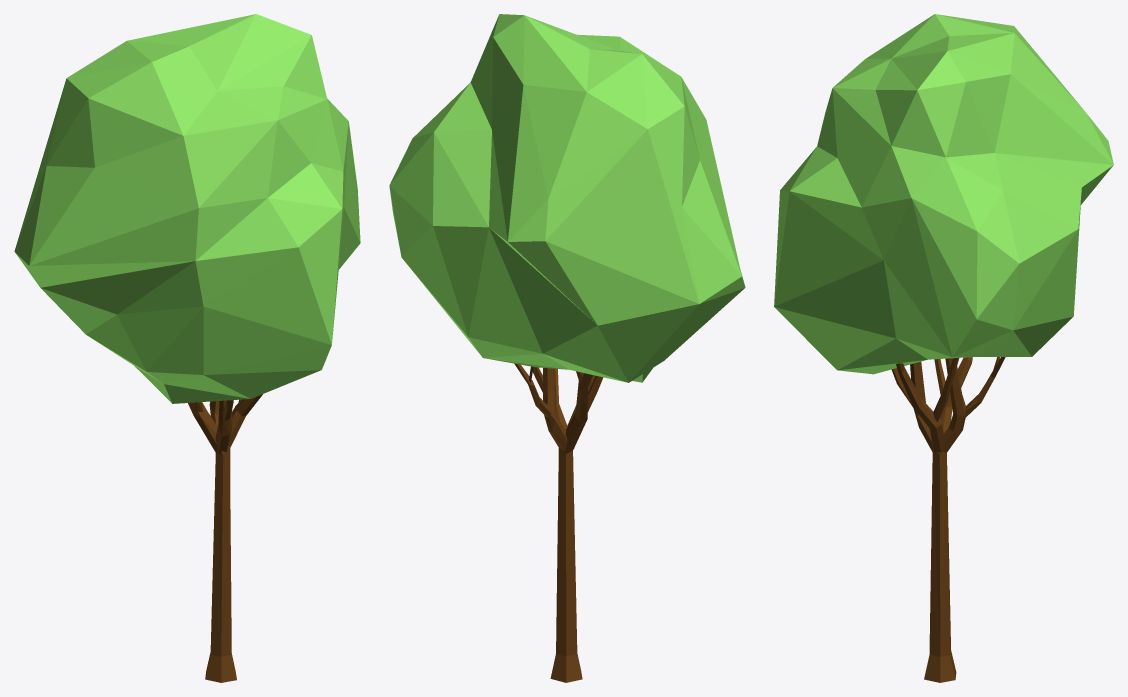
Rendered from Tree03.fbx.
3 views of the same model, side by side, from view 1: azimuth 30°, elevation 25°; view 2: azimuth 150°, elevation 25°; view 3: azimuth 270°, elevation 25° (orthographic).
Visible parts, largest first — view 1: Tree03; view 2: Tree03; view 3: Tree03.
Part boxes in pixels (x1,y1,x2,y2): Tree03: (14,14,360,682); Tree03: (389,14,745,682); Tree03: (774,14,1113,682).
Size of what is drawn, in the model's own units: 443 by 814 by 390.
